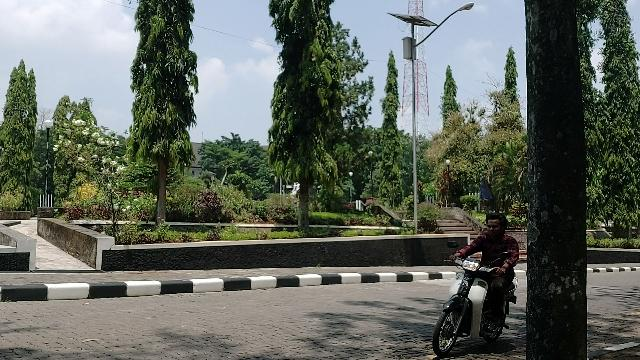motor: (434, 259, 518, 360)
non-helm: (487, 214, 509, 238)
